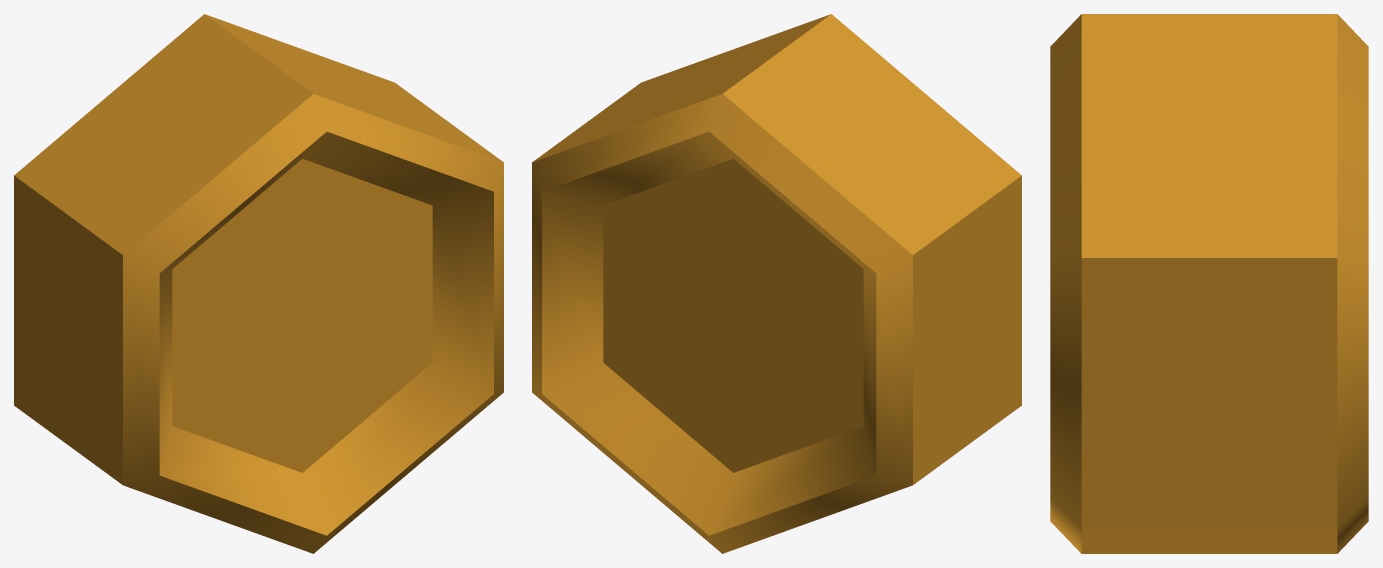
The model's file is sote.fbx.
The picture shows the model from 3 angles, left to right: view 1: azimuth 30°, elevation 25°; view 2: azimuth 150°, elevation 25°; view 3: azimuth 270°, elevation 25°; orthographic projection. The views are drawn at different scales.
Visible parts, largest first — view 1: sote; view 2: sote; view 3: sote.
Boxes of the visible parts, bbox=[...] form: sote: bbox=[14, 14, 503, 553]; sote: bbox=[532, 14, 1021, 553]; sote: bbox=[1050, 14, 1368, 553].
Bounding box in the file's own units: 150 × 173 × 92.71.
